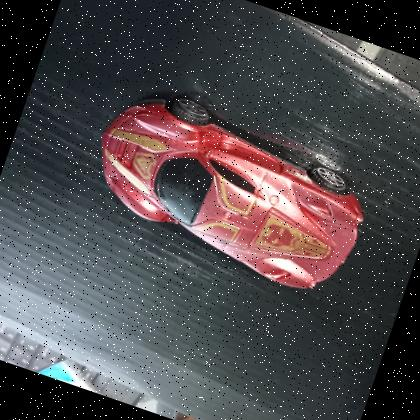Car: (70, 72, 388, 308)
